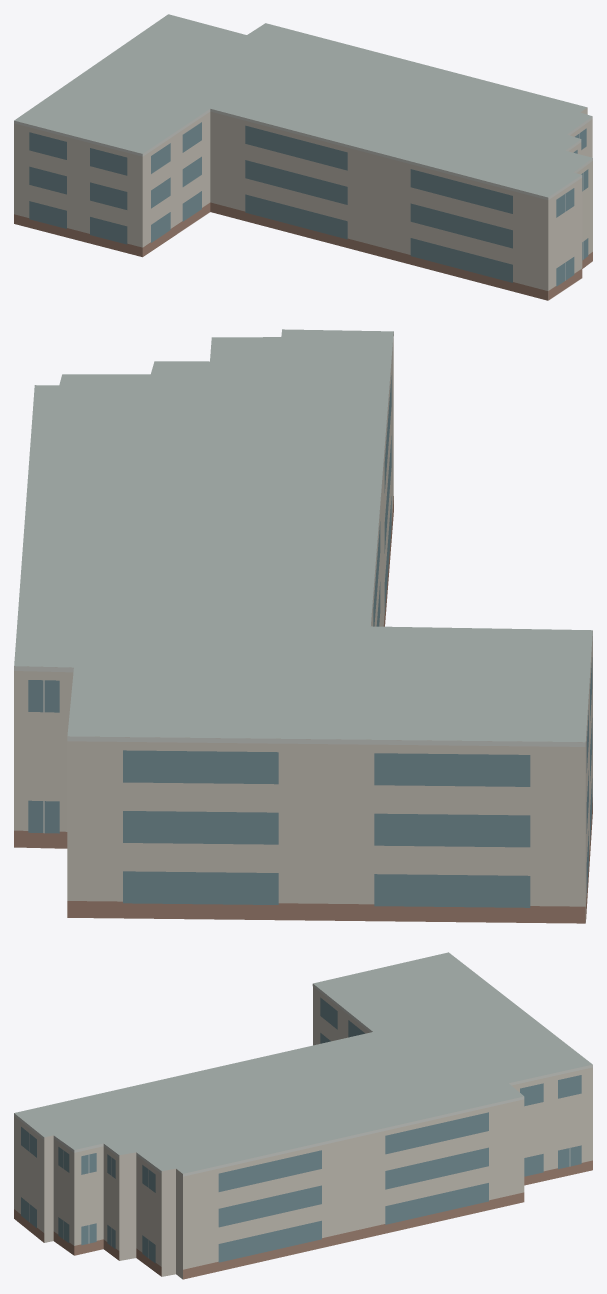
The model's file is survey-upis-32685362.glb.
The picture shows the model from 3 angles, top to bottom: view 1: azimuth 30°, elevation 25°; view 2: azimuth 150°, elevation 25°; view 3: azimuth 270°, elevation 25°; orthographic projection. The views are drawn at different scales.
Visible parts, largest first — view 1: survey-upis-32685362.tmp; view 2: survey-upis-32685362.tmp; view 3: survey-upis-32685362.tmp.
Part boxes in pixels (x1,y1,x2,y2): survey-upis-32685362.tmp: (14,14,592,300); survey-upis-32685362.tmp: (14,329,592,923); survey-upis-32685362.tmp: (14,952,592,1279).
Size of the model in its own units: 41.15 by 9.15 by 45.43.
